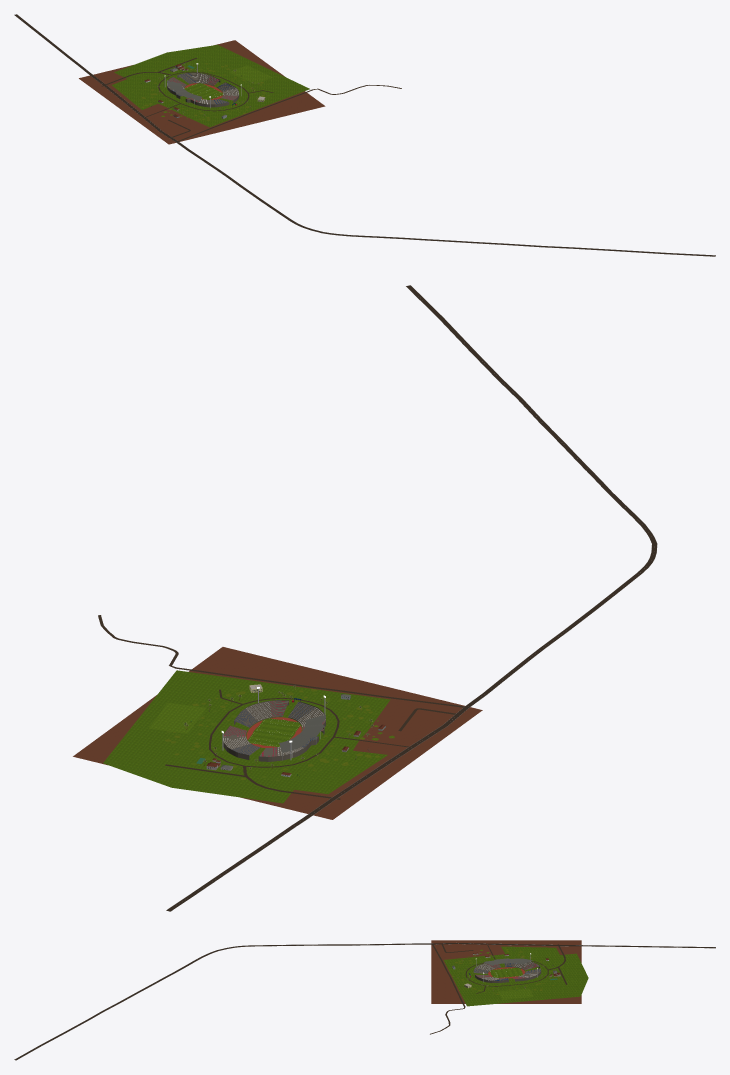
File: skd-stadium.v1.glb
3 views of the same model, one above another, from view 1: azimuth 30°, elevation 25°; view 2: azimuth 150°, elevation 25°; view 3: azimuth 270°, elevation 25° (orthographic). The views are drawn at different scales.
Visible parts, largest first — view 1: ground; view 2: ground; view 3: ground.
Part boxes in pixels (left/top/right/bottom): ground: left=14, top=14, right=715, bottom=256; ground: left=73, top=285, right=657, bottom=911; ground: left=14, top=940, right=715, bottom=1060.
Bounding box in the file's own units: 984 × 37 × 2430.
48 materials, 27 textured.
